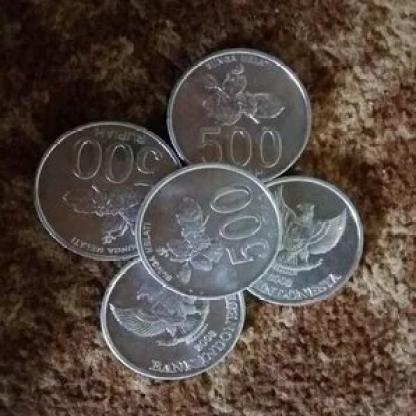coin_500_e2003: (133, 163, 286, 299), (35, 121, 178, 265), (161, 46, 312, 178), (101, 258, 247, 379), (235, 175, 367, 308)
